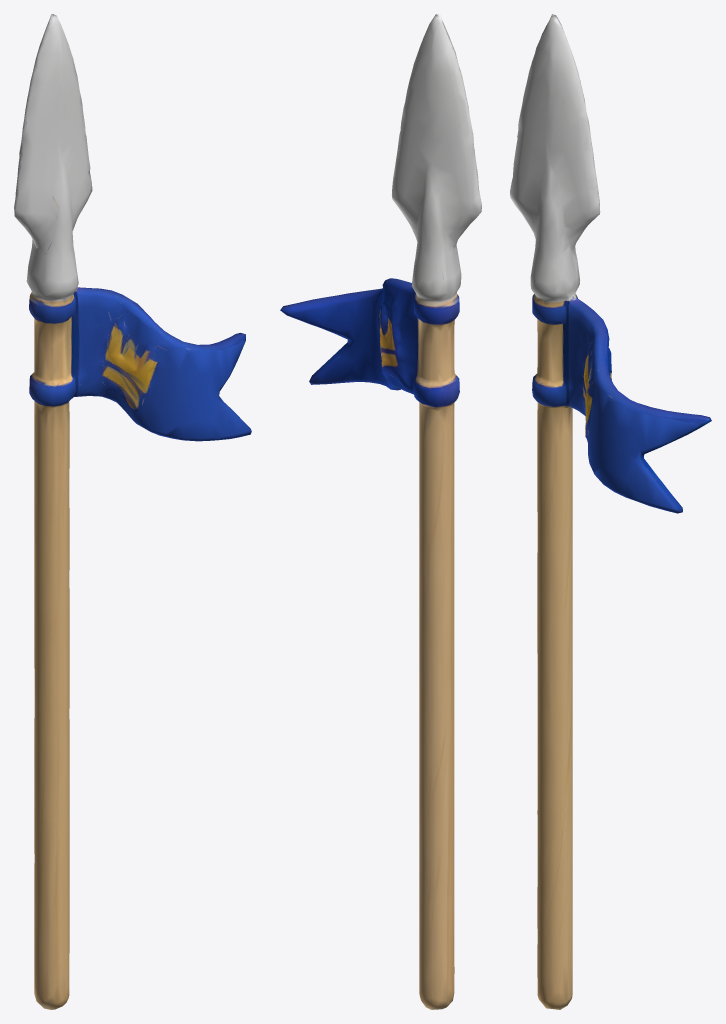
Rendered from HumanSpear.fbx.
3 renders of one model, left to right at view 1: azimuth 30°, elevation 25°; view 2: azimuth 150°, elevation 25°; view 3: azimuth 330°, elevation 25°, orthographic.
Visible parts, largest first — view 1: Mesh_0; view 2: Mesh_0; view 3: Mesh_0.
Part boxes in pixels (x1,y1,x2,y2): Mesh_0: [14, 14, 251, 1009]; Mesh_0: [280, 14, 481, 1009]; Mesh_0: [510, 14, 711, 1009].
Bounding box in the file's own units: 43.23 × 191 × 20.31.
1 material, 1 textured.
